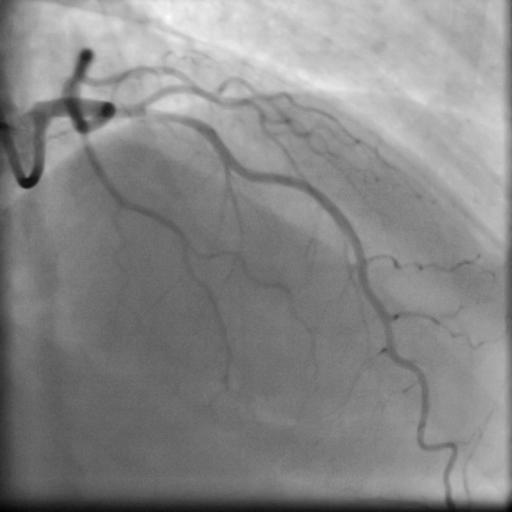Stenosis: (139, 107, 195, 130)
